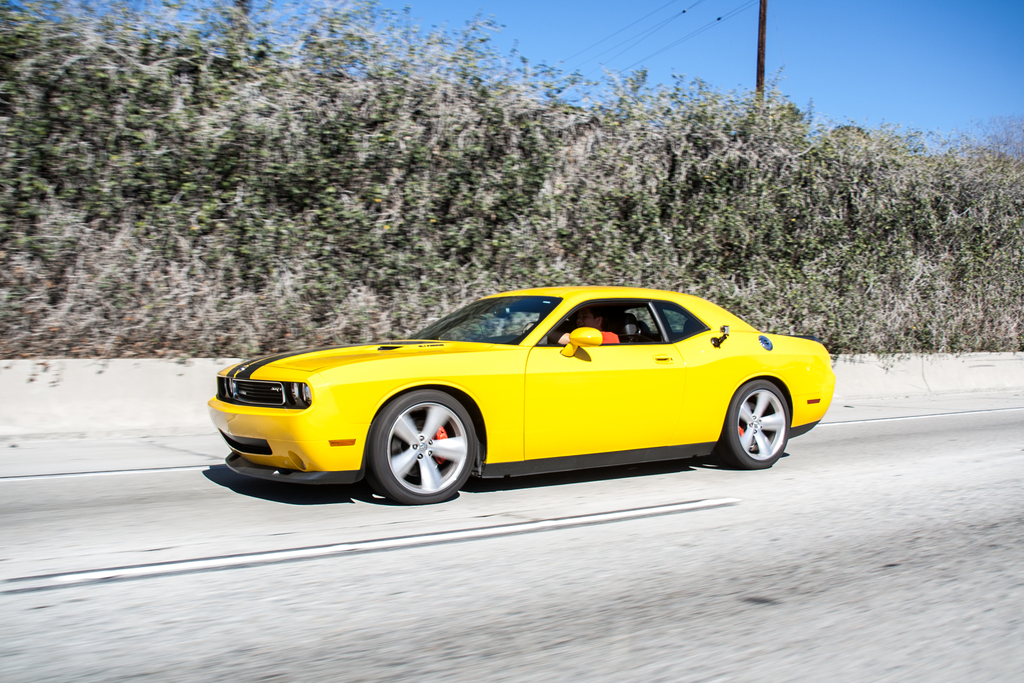Car: (209, 271, 847, 503)
